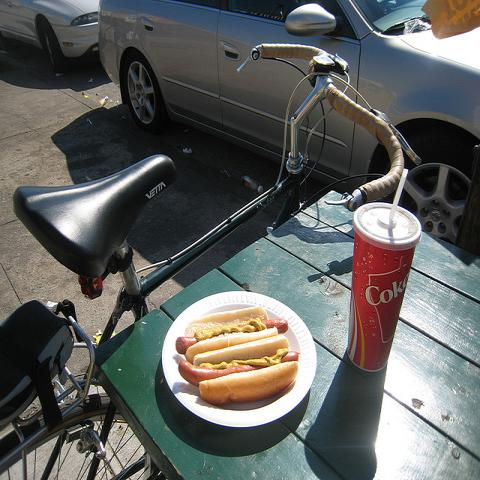car: (98, 0, 480, 249), (1, 1, 99, 58)
